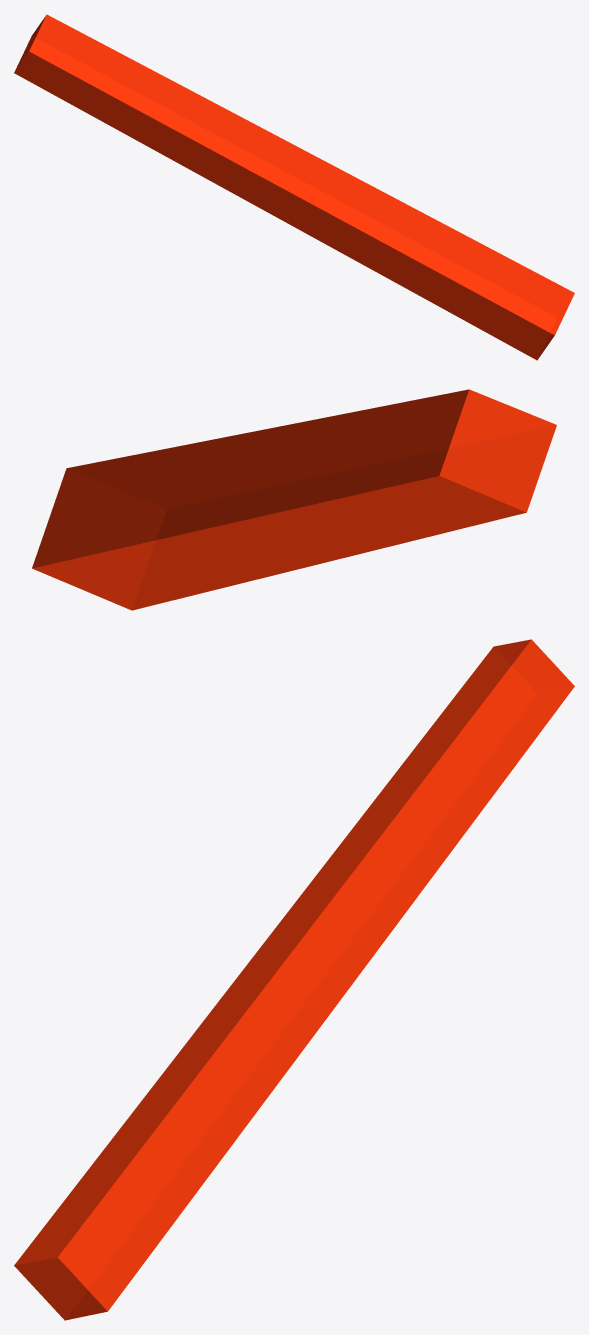
Rendered from Event_421127236_EBrechit_48.fbx.
The picture shows the model from 3 angles, top to bottom: view 1: azimuth 30°, elevation 25°; view 2: azimuth 150°, elevation 25°; view 3: azimuth 270°, elevation 25°; orthographic projection. The views are drawn at different scales.
Parts seen in each view (by area): view 1: Model; view 2: Model; view 3: Model.
Boxes of the visible parts, x1,y1,x2,y2 form: Model: [14, 14, 574, 360]; Model: [32, 389, 556, 610]; Model: [14, 639, 574, 1320].
Size of the model in its own units: 0.5429 by 0.4051 by 0.4598.
